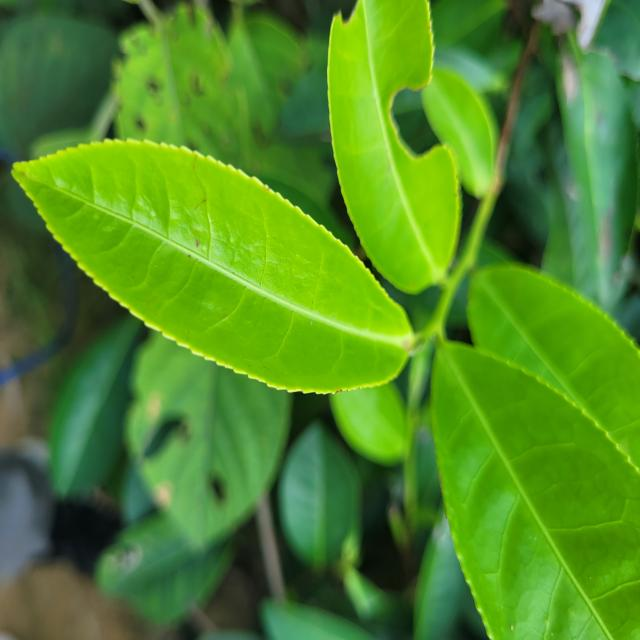Catagory A(1-2 days): (5, 130, 418, 422)
